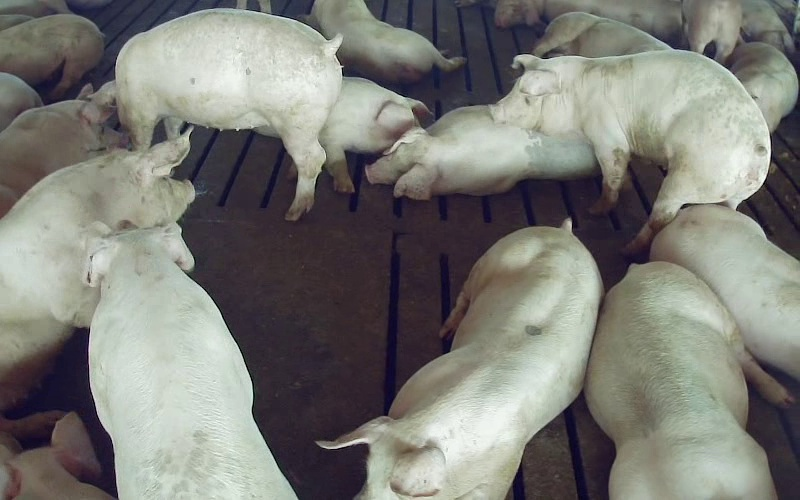pig: (318, 219, 602, 499), (86, 224, 295, 499), (491, 50, 770, 252), (0, 132, 194, 410), (90, 9, 341, 220), (584, 262, 791, 499), (650, 204, 799, 380), (366, 106, 598, 199), (0, 85, 123, 216), (301, 0, 464, 82), (319, 77, 428, 192), (0, 14, 103, 98), (729, 42, 797, 133)
